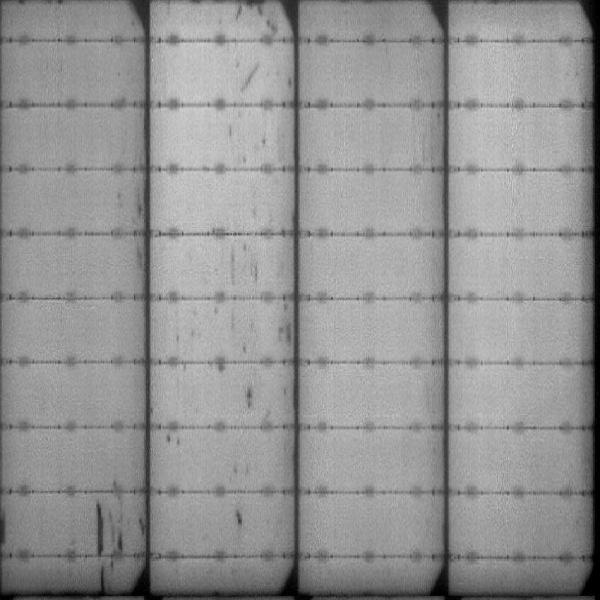scratch: (90, 497, 124, 554), (233, 1, 281, 39), (228, 248, 259, 283), (239, 64, 259, 90), (97, 561, 111, 592), (240, 386, 256, 411)
